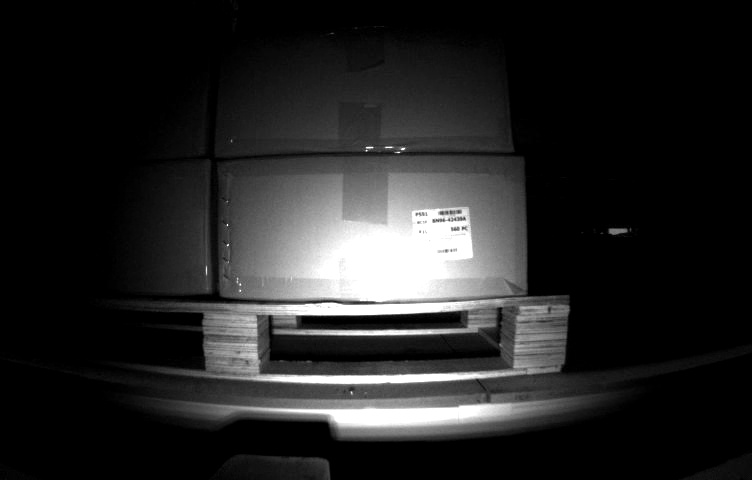True Barcode: (411, 206, 474, 261)
